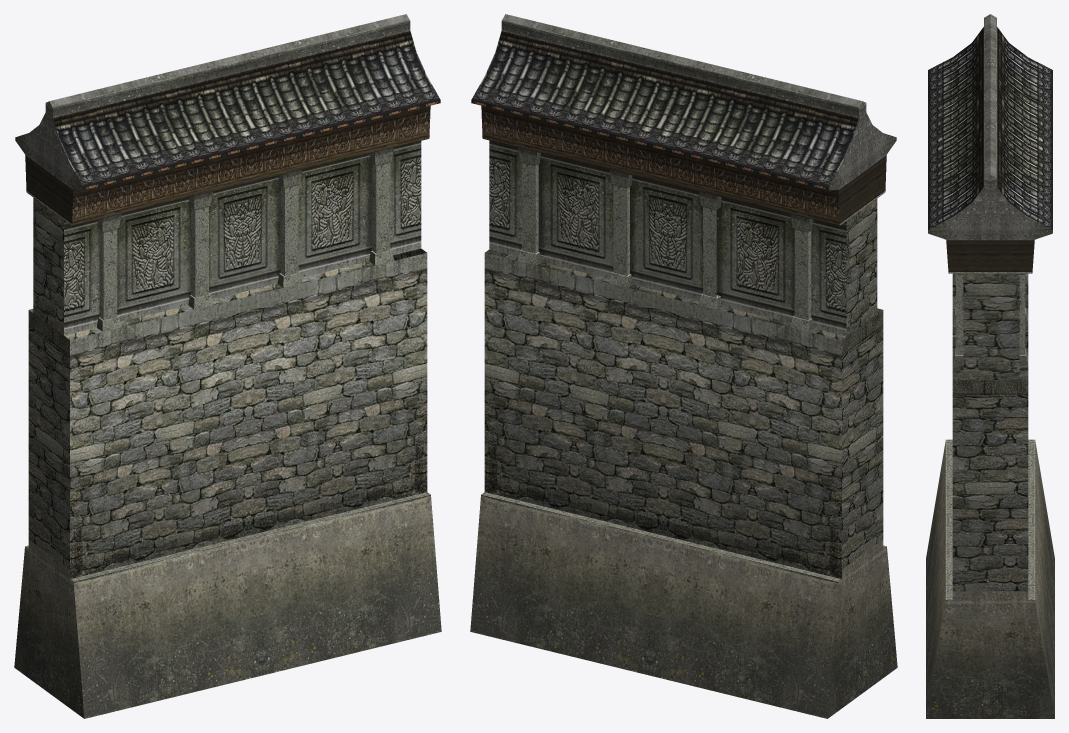
Rendered from b1-middledam-03.fbx.
3 views of the same model, side by side, from view 1: azimuth 30°, elevation 25°; view 2: azimuth 150°, elevation 25°; view 3: azimuth 270°, elevation 25° (orthographic). The views are drawn at different scales.
Visible parts, largest first — view 1: b1-middledam-03; view 2: b1-middledam-03; view 3: b1-middledam-03.
Boxes of the visible parts, left/top/right/bottom form: b1-middledam-03: left=14, top=14, right=441, bottom=718; b1-middledam-03: left=470, top=14, right=897, bottom=718; b1-middledam-03: left=926, top=14, right=1054, bottom=718.
Size of the model in its own units: 5 by 7.92 by 1.7.
